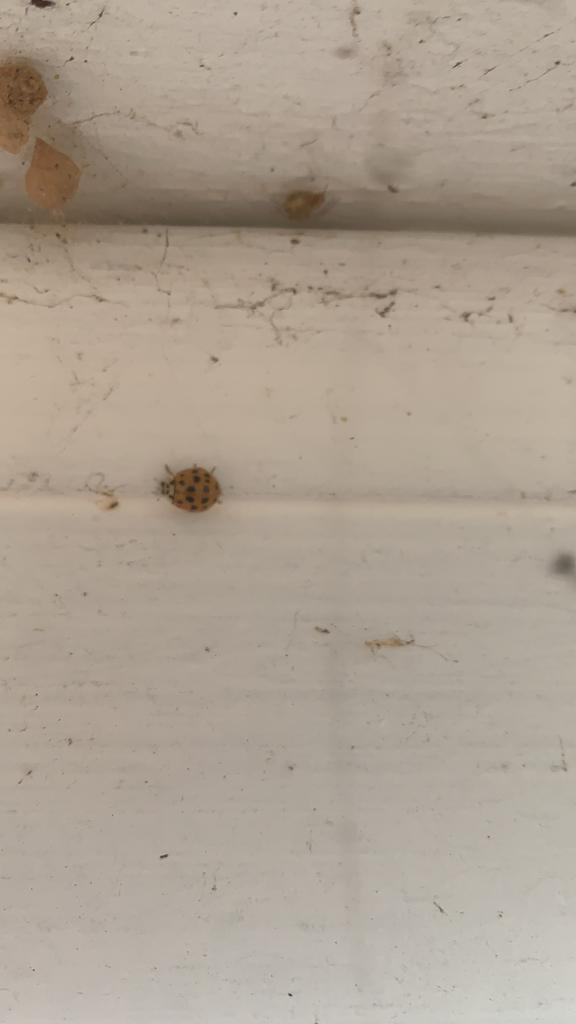ladybug: (155, 463, 225, 515)
